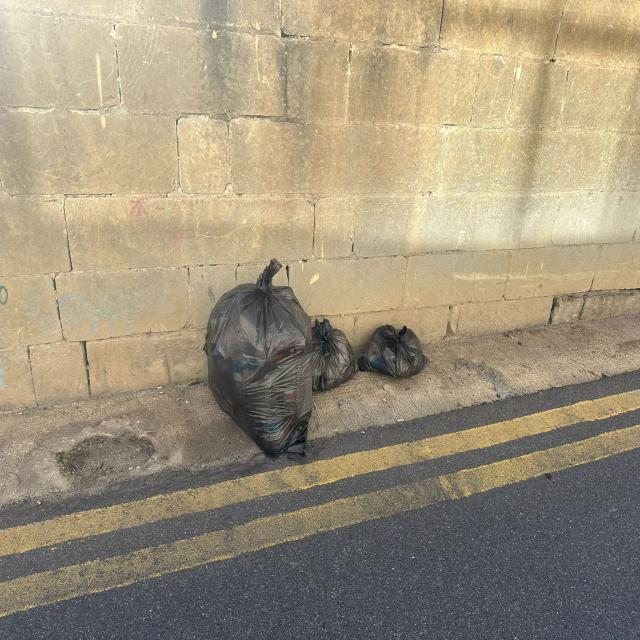black_bag: (200, 257, 314, 462), (306, 310, 358, 392), (357, 322, 429, 379)
